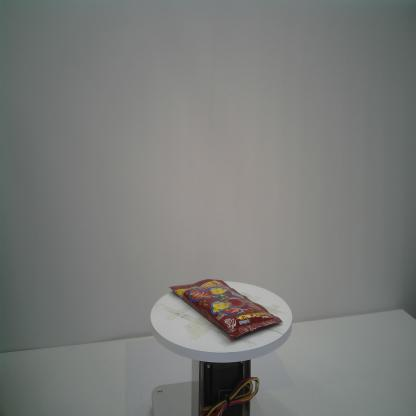Candy: (168, 278, 284, 341)
